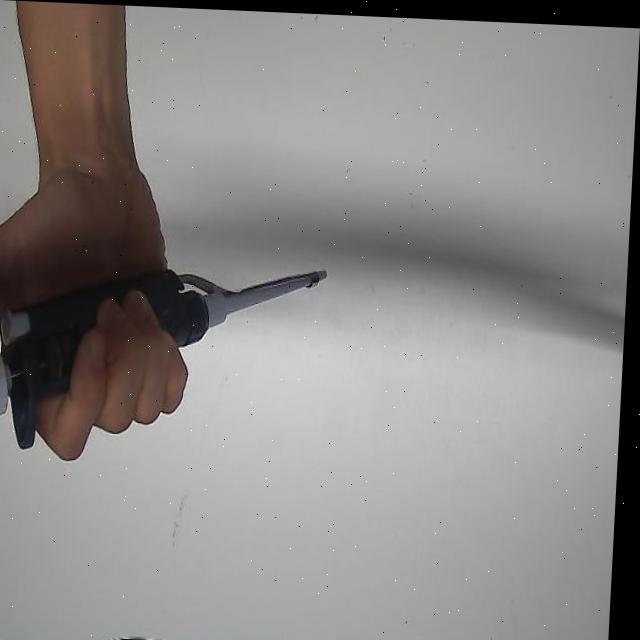Single Channel Pipettor: (0, 254, 333, 461)
